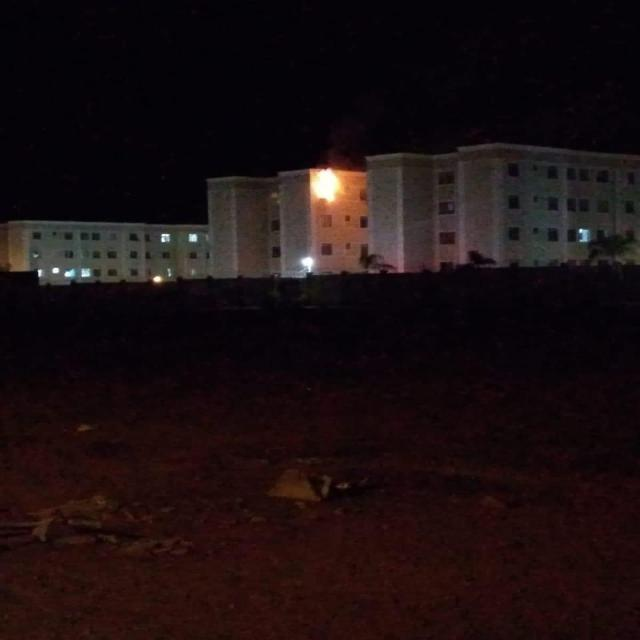Fire: (313, 167, 345, 205)
